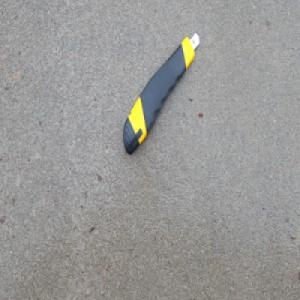Cutter: (122, 31, 201, 157)
